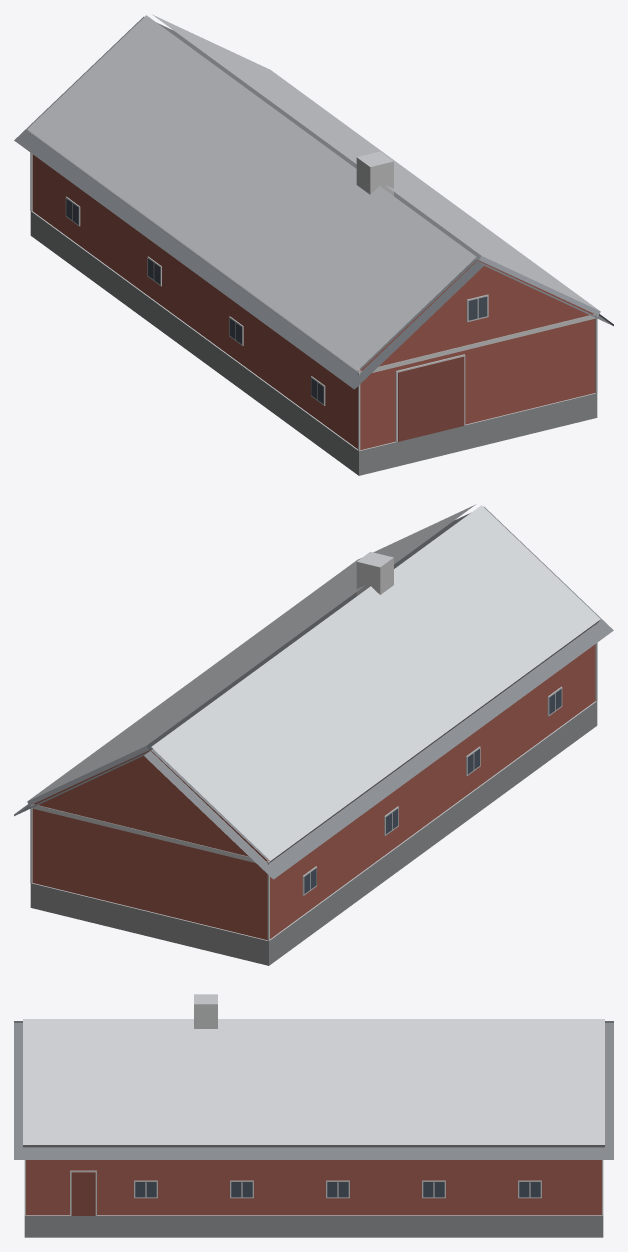
The model's file is maatalous_navetta.glb.
The picture shows the model from 3 angles, top to bottom: view 1: azimuth 30°, elevation 25°; view 2: azimuth 150°, elevation 25°; view 3: azimuth 270°, elevation 25°; orthographic projection. The views are drawn at different scales.
Visible parts, largest first — view 1: maatalous_navetta; view 2: maatalous_navetta; view 3: maatalous_navetta.
Part boxes in pixels (<box>): maatalous_navetta: <box>14,14,613,475</box>; maatalous_navetta: <box>14,504,613,965</box>; maatalous_navetta: <box>14,994,613,1237</box>.
Size of the model in its own units: 11 by 8.6 by 25.
